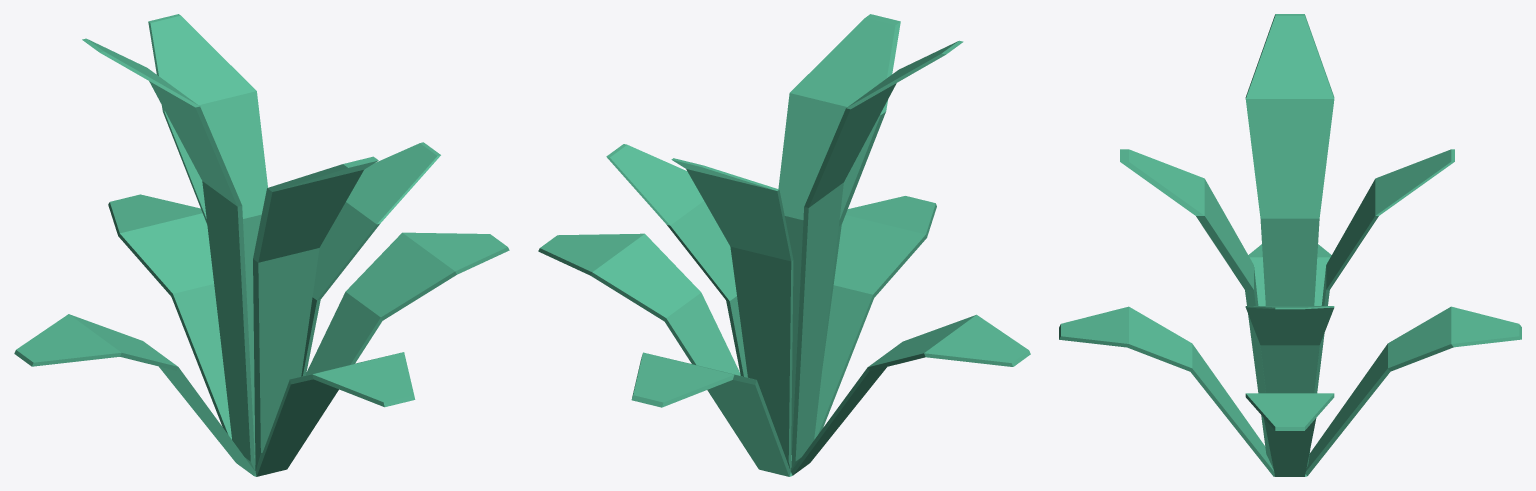
The model's file is carrotGreen2.obj.
3 views of the same model, side by side, from view 1: azimuth 30°, elevation 25°; view 2: azimuth 150°, elevation 25°; view 3: azimuth 270°, elevation 25° (orthographic). The views are drawn at different scales.
Parts seen in each view (by area): view 1: carrotGreen; view 2: carrotGreen; view 3: carrotGreen.
Part boxes in pixels (x1=…): carrotGreen: x1=14, y1=14, x2=509, y2=476; carrotGreen: x1=538, y1=14, x2=1030, y2=476; carrotGreen: x1=1059, y1=14, x2=1521, y2=476.
Bounding box in the file's own units: 0.1728 × 0.1596 × 0.1733.
